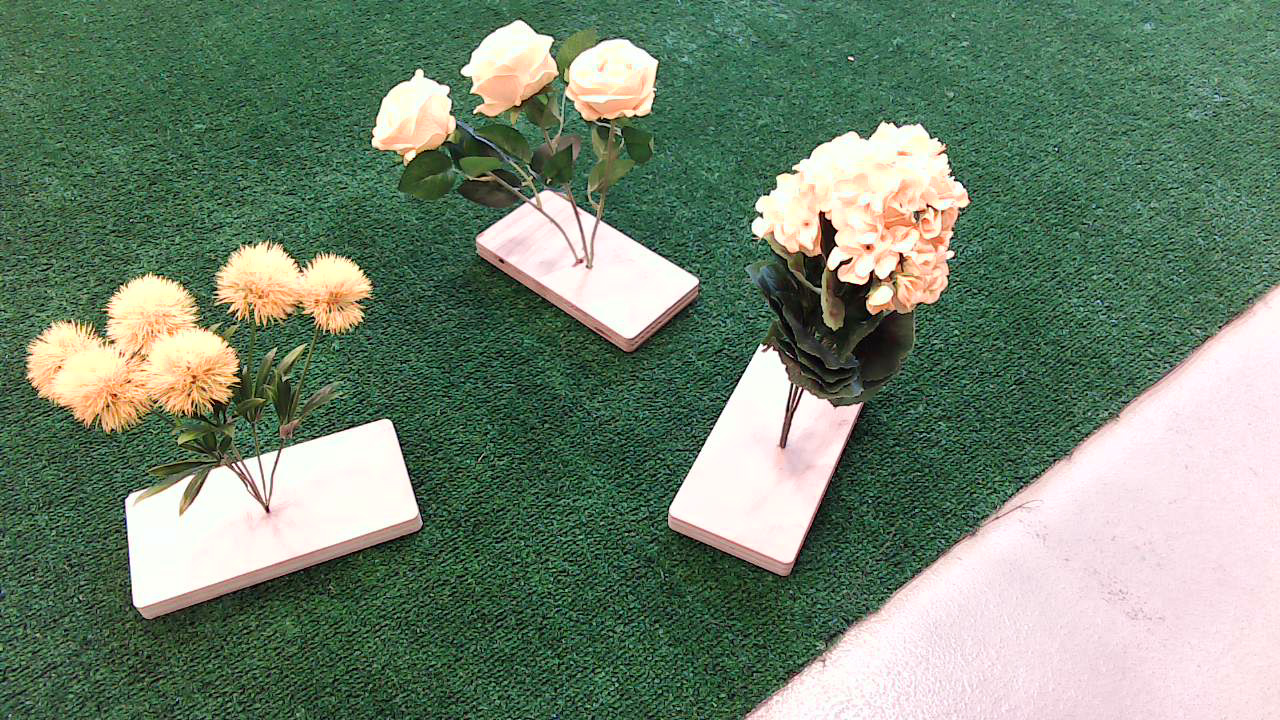dandelion: (12, 247, 414, 518)
geranium: (756, 120, 985, 458)
rose: (344, 17, 690, 242)
